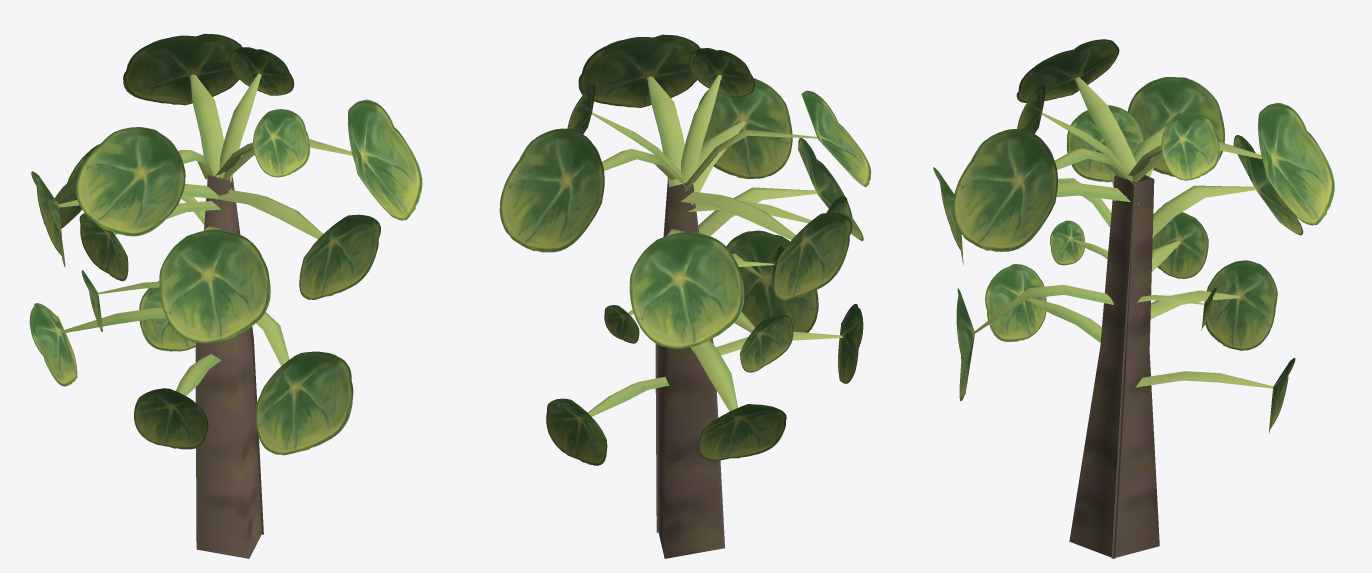
Rendered from MoneyPlant.fbx.
3 renders of one model, left to right at view 1: azimuth 30°, elevation 25°; view 2: azimuth 150°, elevation 25°; view 3: azimuth 270°, elevation 25°, orthographic. The views are drawn at different scales.
Visible parts, largest first — view 1: MoneyPlant; view 2: MoneyPlant; view 3: MoneyPlant.
Boxes of the visible parts, x1=… form: MoneyPlant: x1=29, y1=33, x2=422, y2=558; MoneyPlant: x1=499, y1=34, x2=871, y2=558; MoneyPlant: x1=933, y1=39, x2=1334, y2=558.
Bounding box in the file's own units: 24.33 × 31.31 × 26.12.
Materials: 1 (1 with a texture image).
